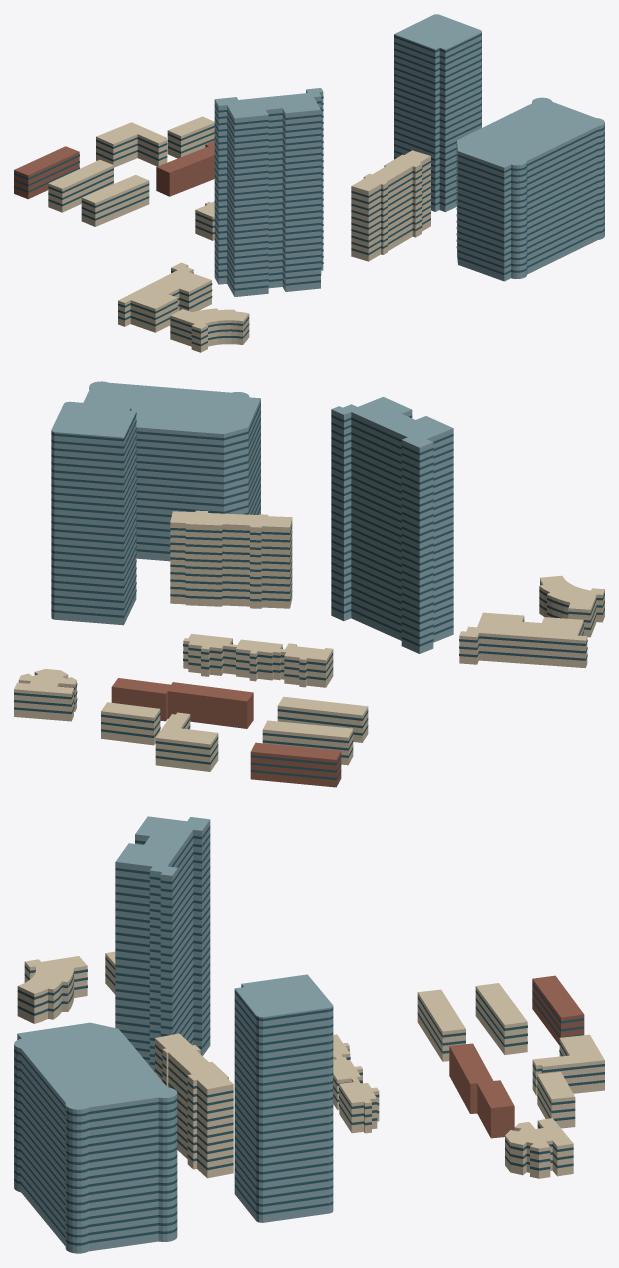
Rendered from city_7_-4.glb.
3 views of the same model, one above another, from view 1: azimuth 30°, elevation 25°; view 2: azimuth 150°, elevation 25°; view 3: azimuth 270°, elevation 25° (orthographic). The views are drawn at different scales.
Visible parts, largest first — view 1: city_7_-4; view 2: city_7_-4; view 3: city_7_-4.
Boxes of the visible parts, x1=… form: city_7_-4: x1=14, y1=14, x2=604, y2=352; city_7_-4: x1=14, y1=381, x2=604, y2=787; city_7_-4: x1=14, y1=816, x2=604, y2=1253.
Size of the model in its own units: 300 by 112 by 266.
